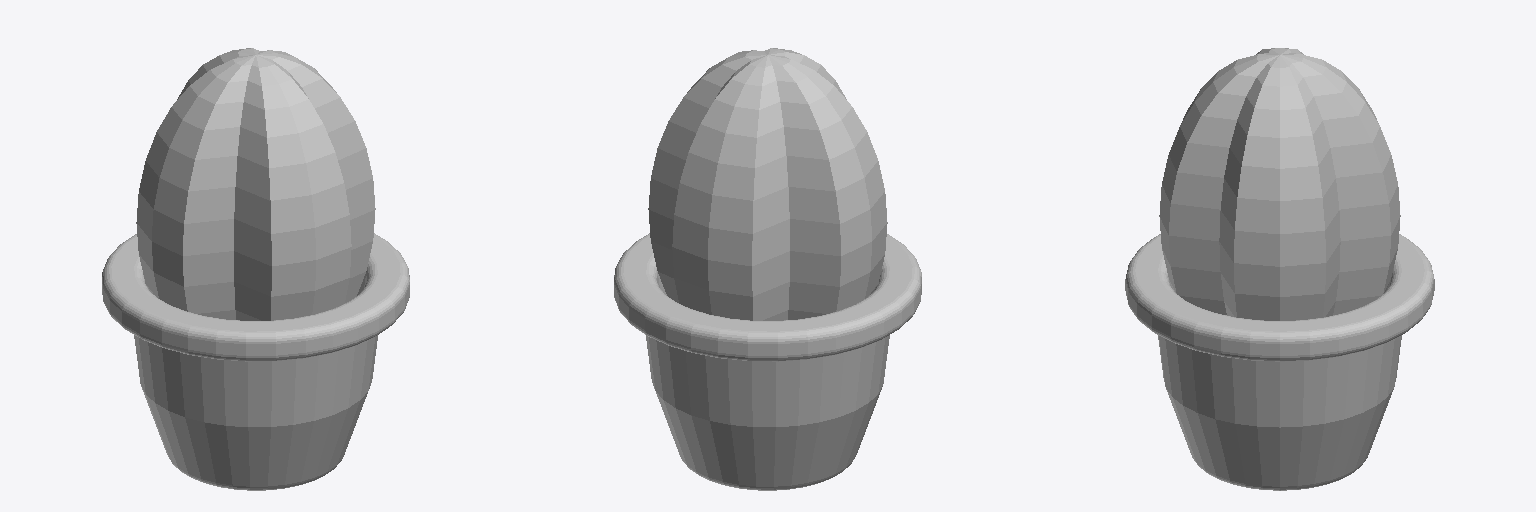
File: cactus.obj
3 views of the same model, side by side, from view 1: azimuth 30°, elevation 25°; view 2: azimuth 150°, elevation 25°; view 3: azimuth 270°, elevation 25° (orthographic).
Visible parts, largest first — view 1: cactus; view 2: cactus; view 3: cactus.
Boxes of the visible parts, x1=… form: cactus: x1=102, y1=48, x2=409, y2=490; cactus: x1=614, y1=48, x2=921, y2=490; cactus: x1=1125, y1=48, x2=1434, y2=490.
Bounding box in the file's own units: 0.2509 × 0.3602 × 0.2509.